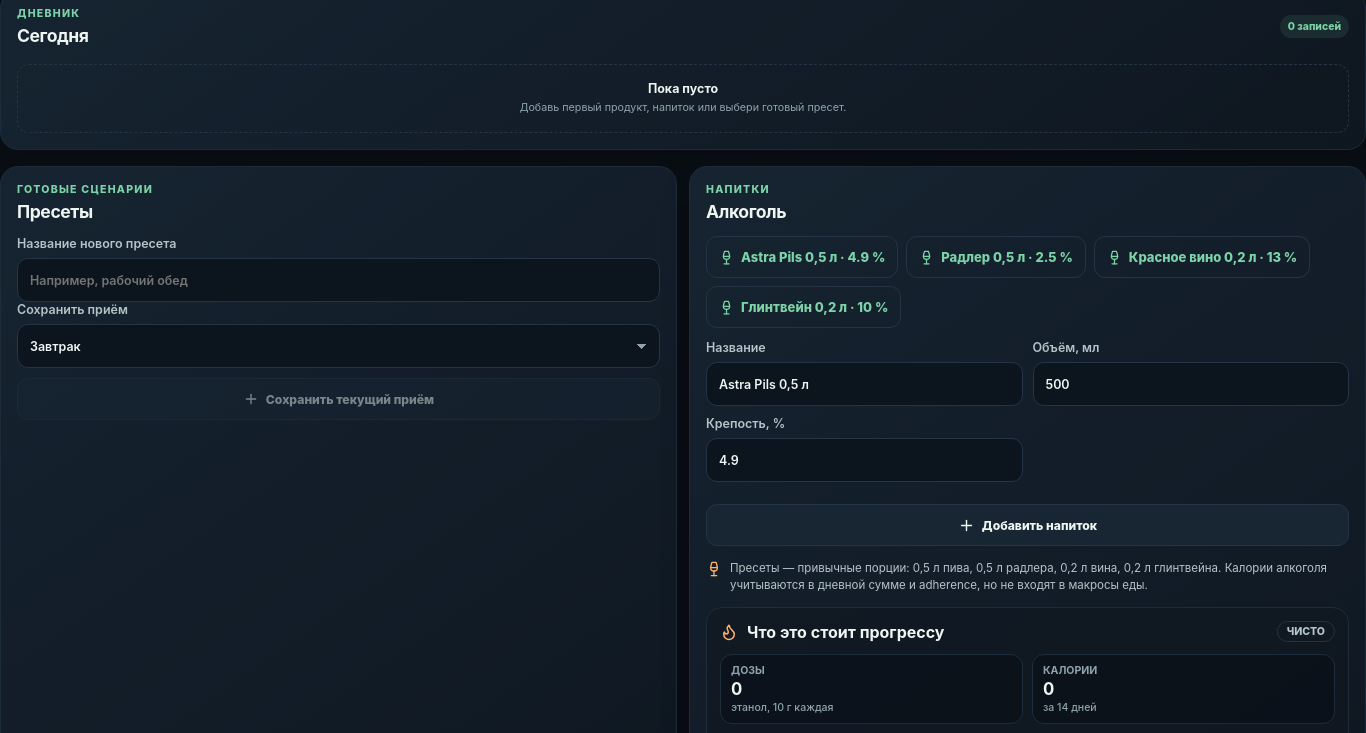
Test: страница питания › учитывает калории алкоголя отдельно от макросов
The width and height of the screenshot is (1366, 733).
(page scrolled)
Replace the text in the number field labelled "Объём, мл" with "330" at [1191, 384], box [1032,362,1349,406]
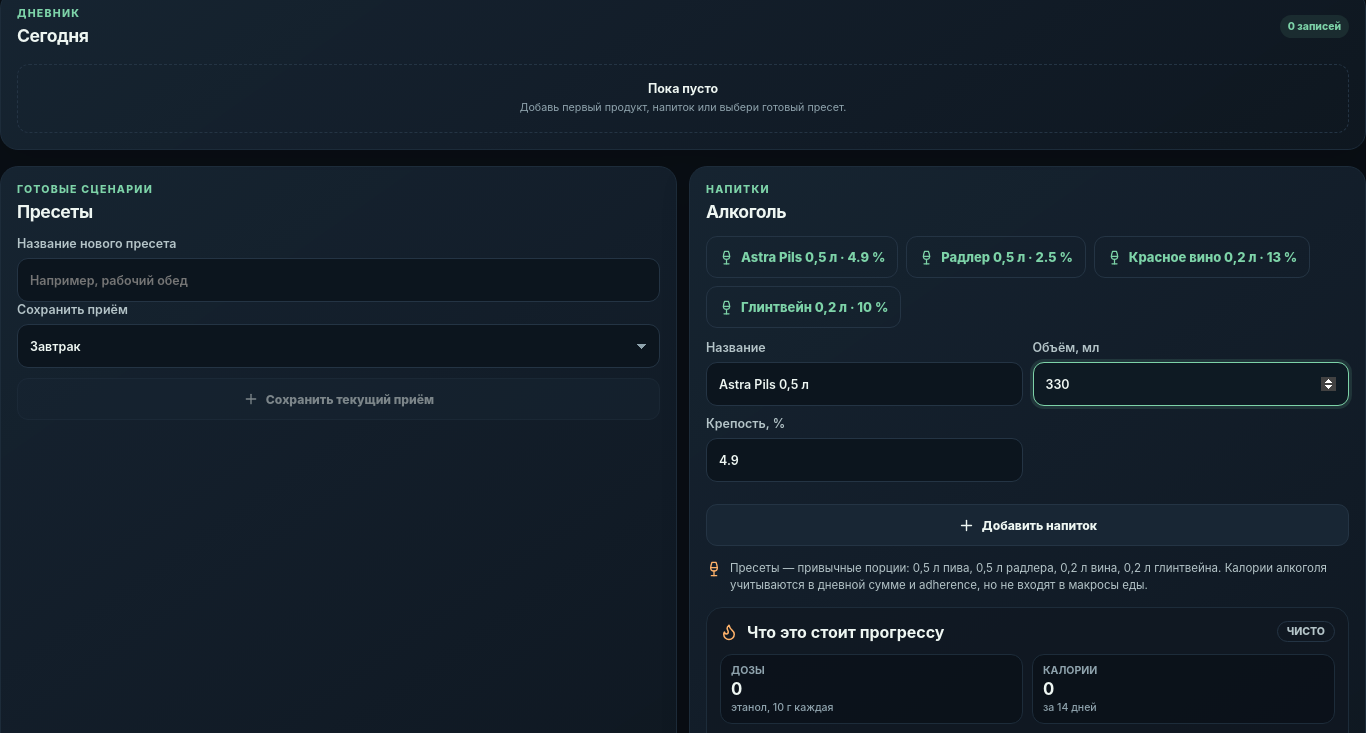
Replace the text in the number field labelled "Крепость, %" with "12.5" at [864, 460], box [706,438,1022,482]
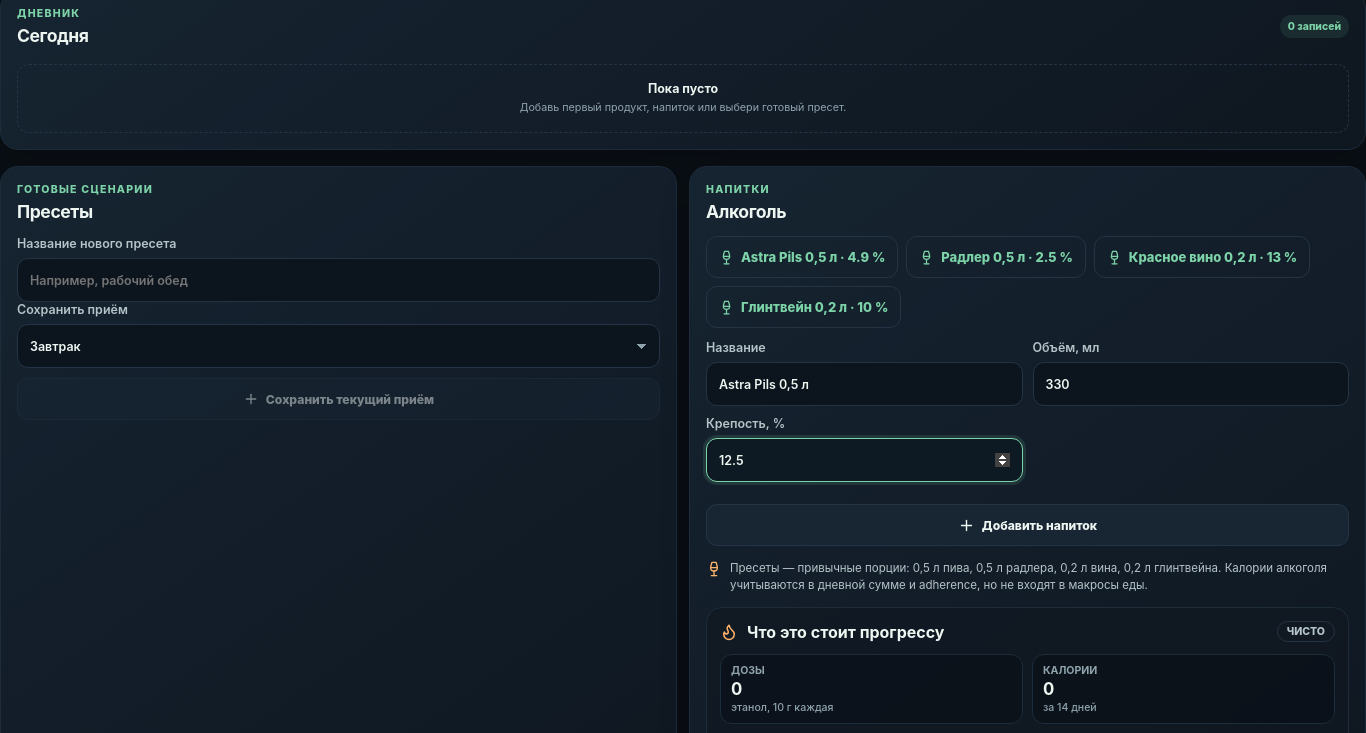
Click the button "Добавить напиток" at [1028, 525], box [706,504,1349,546]
(page scrolled)
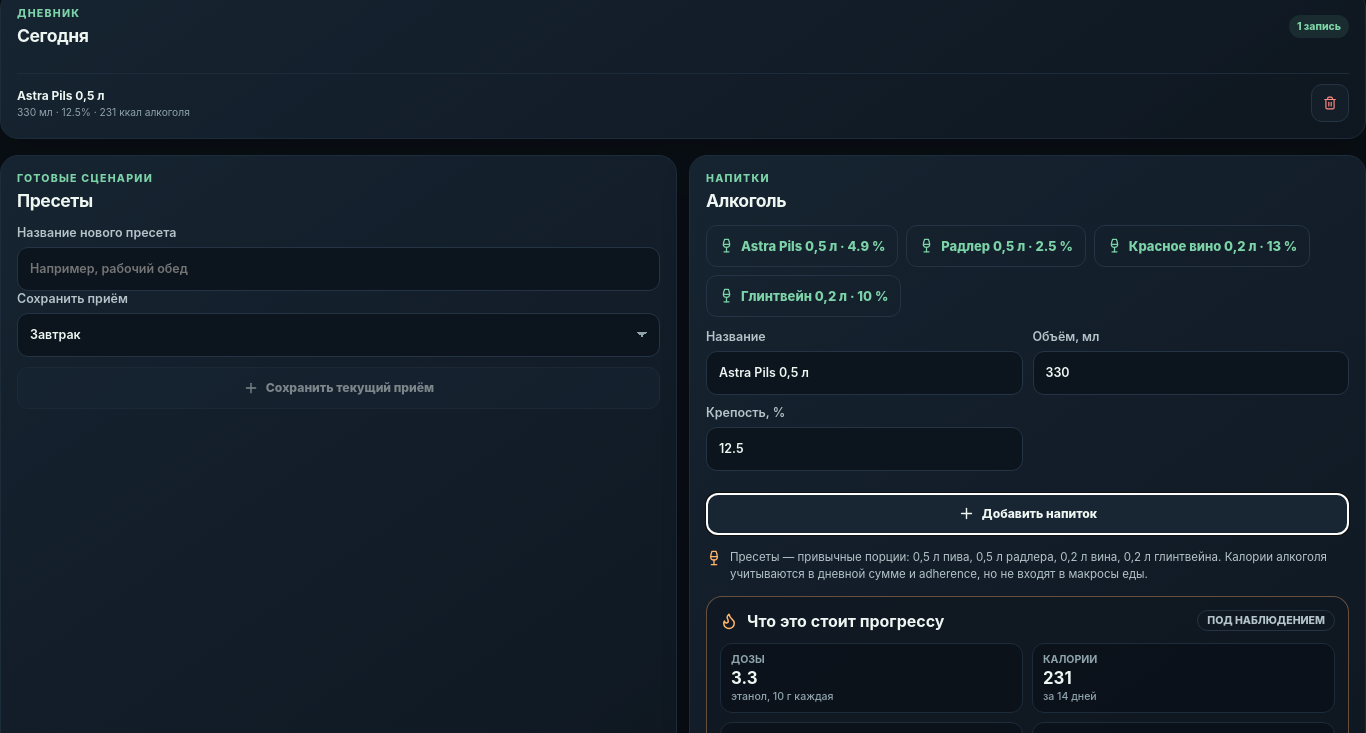
Result: the button named "Удалить Astra Pils 0,5 л" is shown at [1311,84,1349,122]
